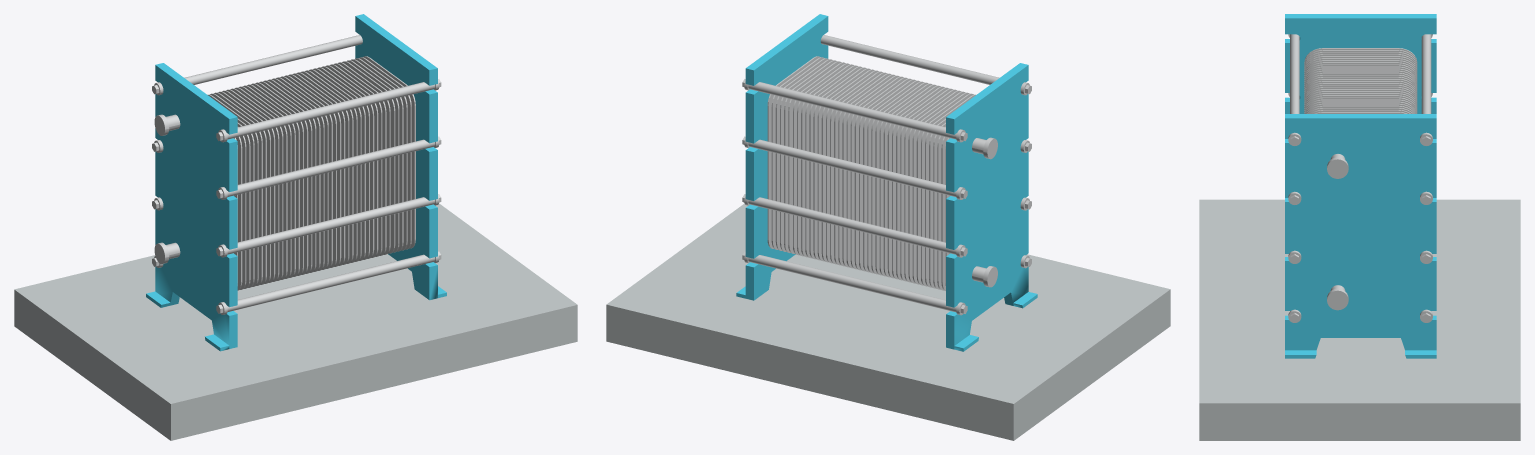
File: 板式换热器-制冷.glb
3 renders of one model, left to right at view 1: azimuth 30°, elevation 25°; view 2: azimuth 150°, elevation 25°; view 3: azimuth 270°, elevation 25°, orthographic. The views are drawn at different scales.
Visible parts, largest first — view 1: 基础, 板式换热器, 外架; view 2: 基础, 板式换热器, 外架; view 3: 基础, 外架, 板式换热器.
Part boxes in pixels (x1,y1,x2,y2): 基础: (14, 203, 577, 440); 板式换热器: (152, 35, 441, 314); 外架: (146, 14, 446, 351); 基础: (606, 203, 1170, 440); 板式换热器: (742, 35, 1031, 315); 外架: (736, 14, 1037, 351); 基础: (1199, 199, 1520, 440); 外架: (1285, 14, 1436, 358); 板式换热器: (1288, 34, 1432, 322).
Size of the model in its own units: 150 by 94.03 by 100.
